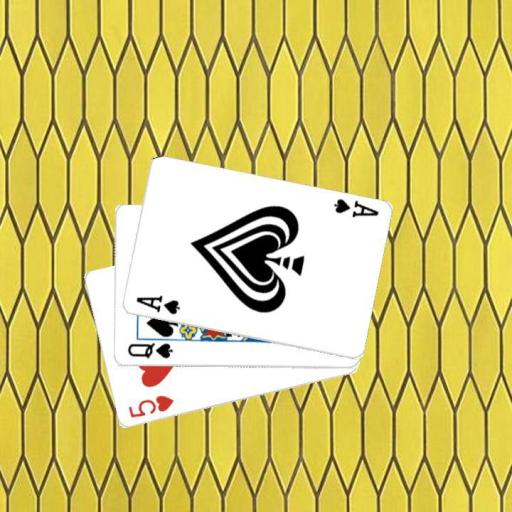5H: (124, 393, 175, 420)
AS: (132, 293, 181, 317), (330, 196, 380, 219)
QS: (125, 340, 175, 360)
